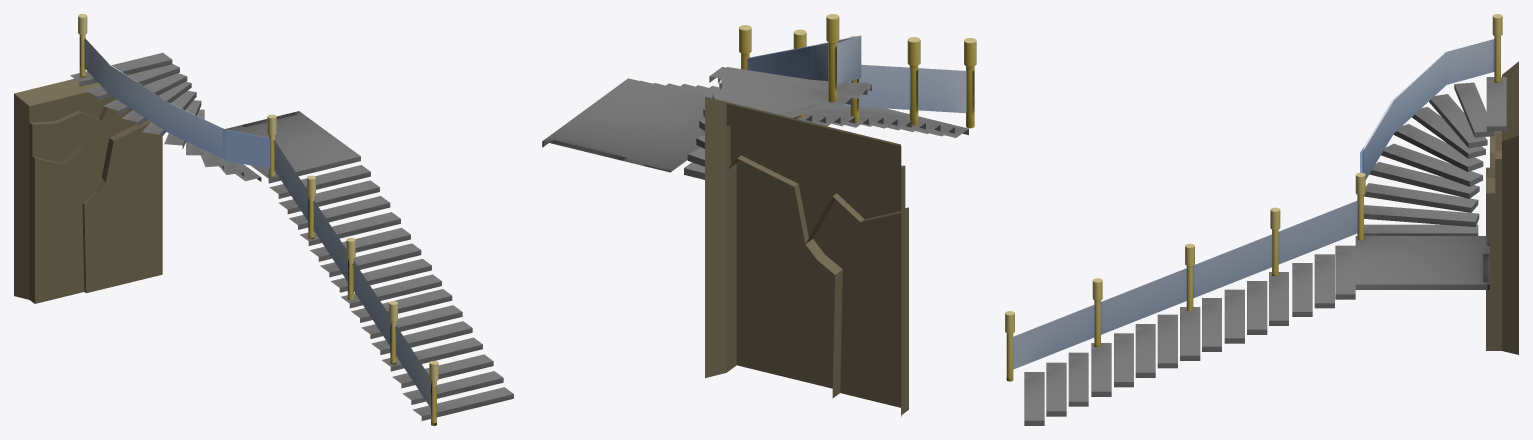
The model's file is Trap naar Boss Office.fbx.
3 views of the same model, side by side, from view 1: azimuth 30°, elevation 25°; view 2: azimuth 150°, elevation 25°; view 3: azimuth 270°, elevation 25° (orthographic). The views are drawn at different scales.
Parts seen in each view (by area): view 1: tileable_cave_wall13, polySurface76, polySurface77, polySurface50; view 2: tileable_cave_wall13, polySurface76, polySurface50, polySurface77; view 3: polySurface76, polySurface50, tileable_cave_wall13, polySurface77.
Part boxes in pixels (x1,y1,x2,y2): tileable_cave_wall13: [14, 74, 162, 303]; polySurface76: [70, 14, 513, 425]; polySurface77: [84, 38, 269, 168]; polySurface50: [274, 140, 430, 407]; tileable_cave_wall13: [705, 96, 908, 416]; polySurface76: [542, 14, 976, 179]; polySurface50: [825, 64, 966, 113]; polySurface77: [747, 35, 861, 85]; polySurface76: [1005, 14, 1506, 425]; polySurface50: [1013, 200, 1357, 369]; tileable_cave_wall13: [1486, 61, 1518, 354]; polySurface77: [1360, 39, 1494, 179].
Bounding box in the file's own units: 212 × 205 × 321.
Materials: 3 (2 with a texture image).
